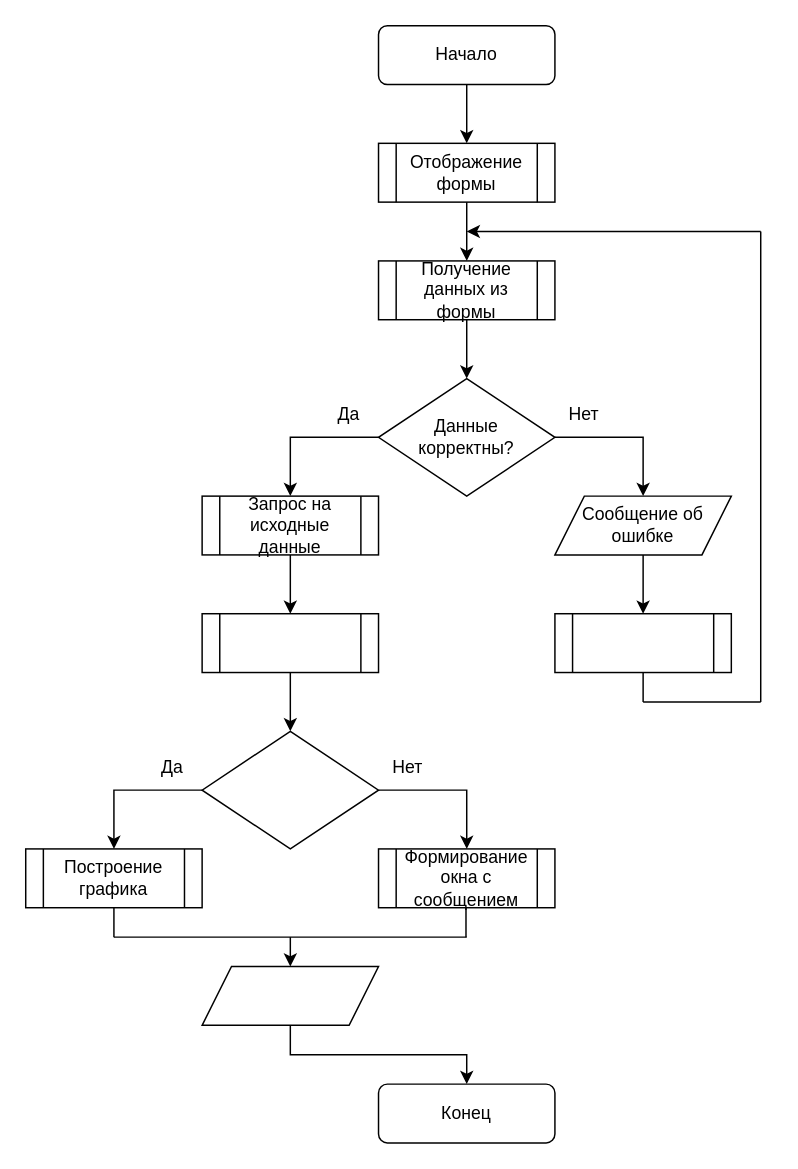
Image size: 798x1169. Some labels were removed from this diagram. The centre of each missing label's shape, as x and y in pixels:
"Есть данные?" goes at point (290, 789).
"Очистка формы" goes at point (642, 642).
"Получение данных с сервера" goes at point (290, 642).
"Результаты работы" goes at point (290, 995).
